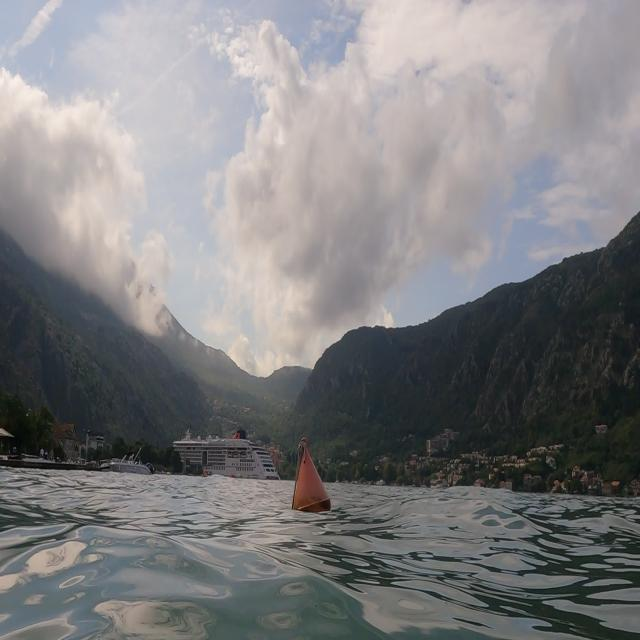boat: (171, 429, 283, 493), (100, 440, 158, 481)
buoy: (289, 434, 333, 520)
